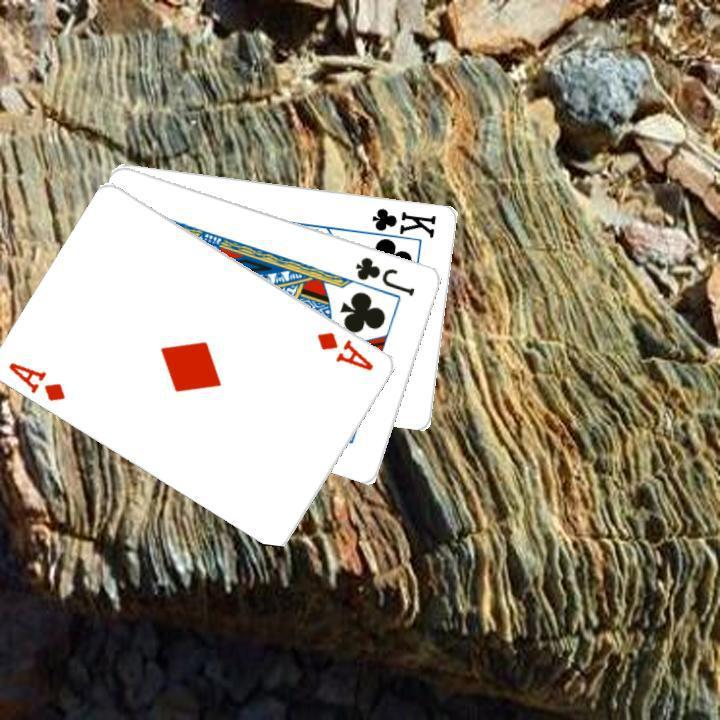A: (313, 327, 376, 373), (5, 357, 68, 403)
J: (352, 252, 418, 298)
K: (359, 203, 438, 245)
